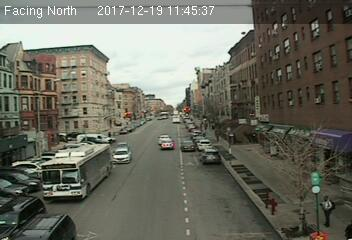bus: (38, 144, 112, 198)
car: (200, 148, 223, 164), (111, 149, 132, 165), (160, 139, 174, 150), (181, 140, 195, 151)
pedestrian: (321, 195, 337, 232)
